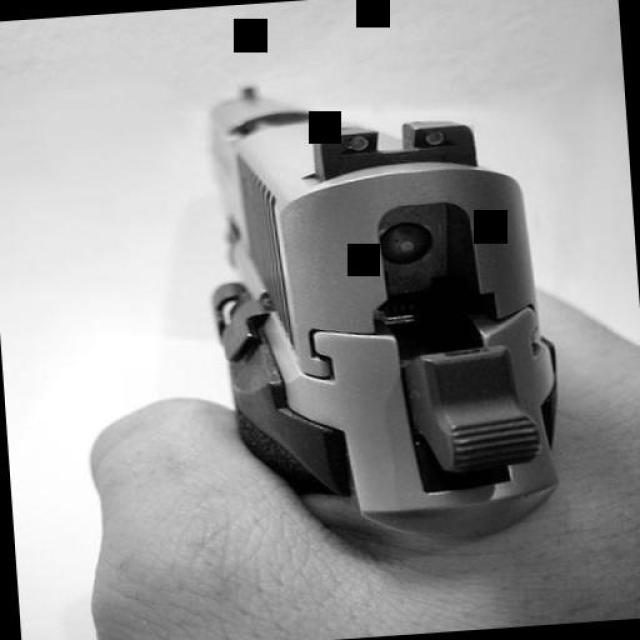gun: (200, 65, 566, 523)
